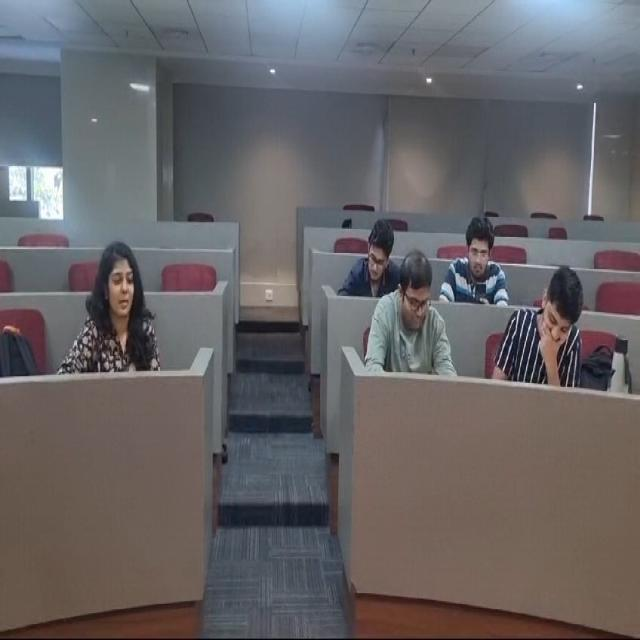cheating: (492, 256, 595, 391), (445, 206, 512, 316)
non-cheating: (73, 236, 160, 370), (379, 252, 450, 373), (341, 199, 400, 289)
